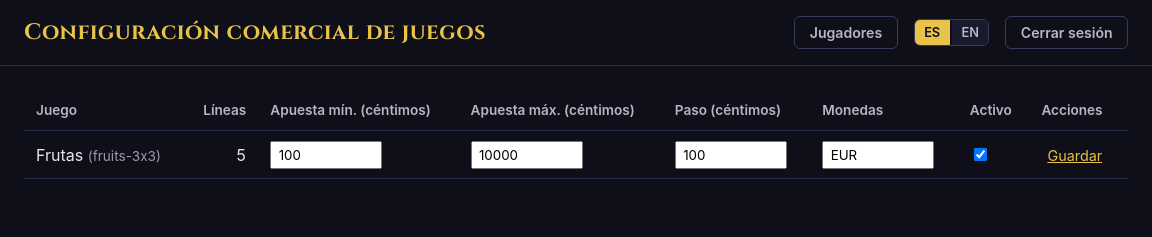
OperatorGamesPage (HU-15) › AC2: a 422 on save shows the backend detail inline
The image size is (1152, 237).
What coordinates should you click on to do the following:
click the button "Guardar"
I would click on:
 (1075, 155)
Its box is x1=1041 y1=146 x2=1108 y2=164.
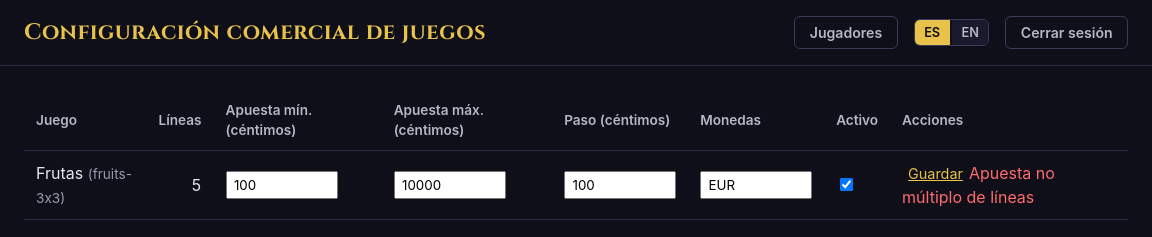
Expected: the text "Apuesta no múltiplo de líneas" is shown, x1=902 y1=163 x2=1055 y2=207
